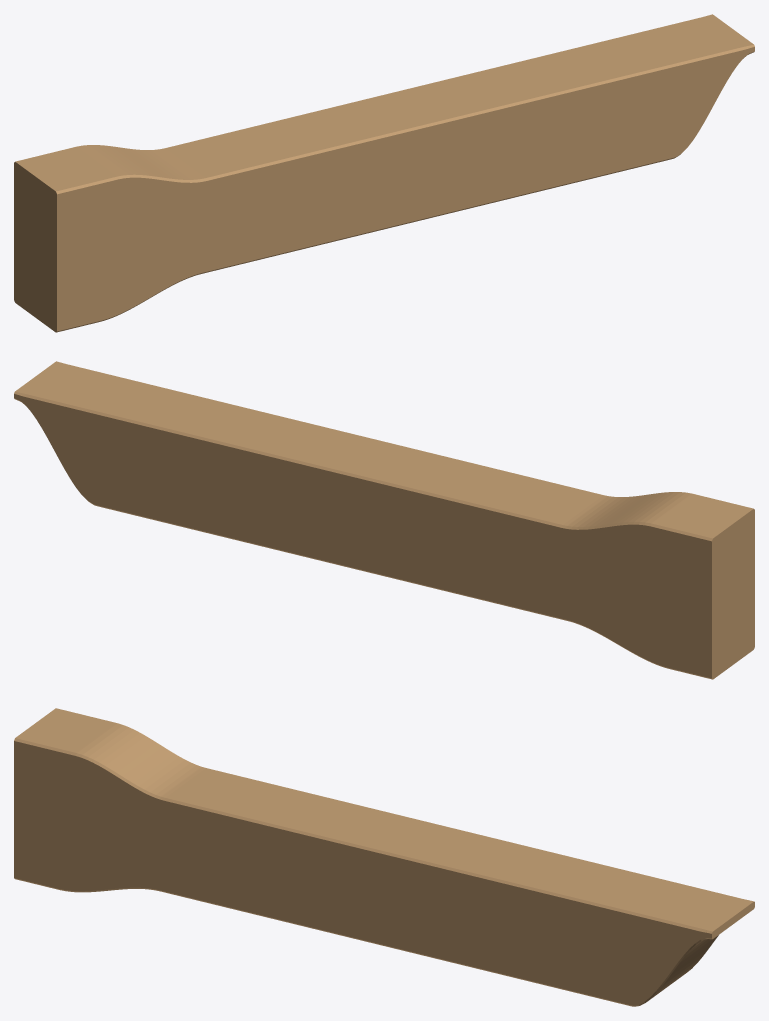
The model's file is TOU_ANG_ILLUSTRATION_C01_candidate.glb.
3 renders of one model, top to bottom at view 1: azimuth 30°, elevation 25°; view 2: azimuth 150°, elevation 25°; view 3: azimuth 330°, elevation 25°, orthographic.
Parts seen in each view (by area): view 1: TOU_ANG_ILLUSTRATION_C01_candidate; view 2: TOU_ANG_ILLUSTRATION_C01_candidate; view 3: TOU_ANG_ILLUSTRATION_C01_candidate.
Boxes of the visible parts, left/top/right/bottom form: TOU_ANG_ILLUSTRATION_C01_candidate: left=14, top=14, right=754, bottom=332; TOU_ANG_ILLUSTRATION_C01_candidate: left=14, top=361, right=754, bottom=679; TOU_ANG_ILLUSTRATION_C01_candidate: left=14, top=708, right=754, bottom=1006.
Bounding box in the file's own units: 1.44 × 0.2784 × 0.154.
